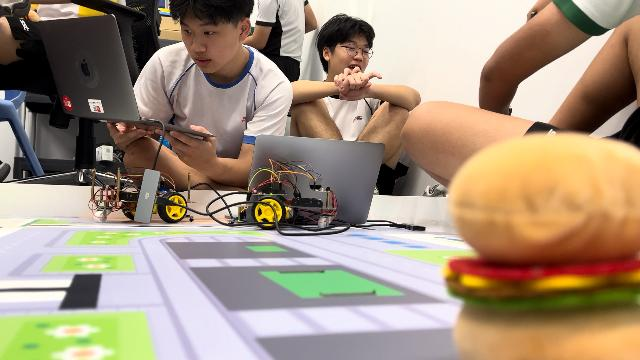burger: (440, 134, 640, 360)
